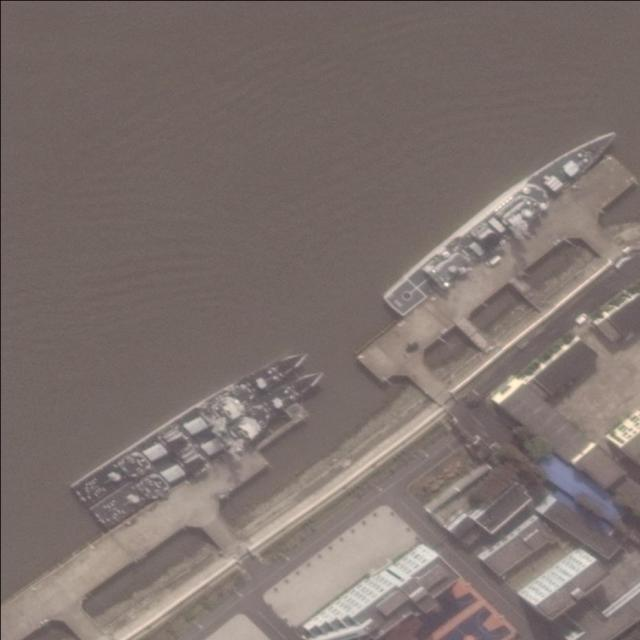Auxiliary Ships: (381, 117, 622, 318)
Frigate: (70, 336, 309, 513), (92, 361, 329, 533)
